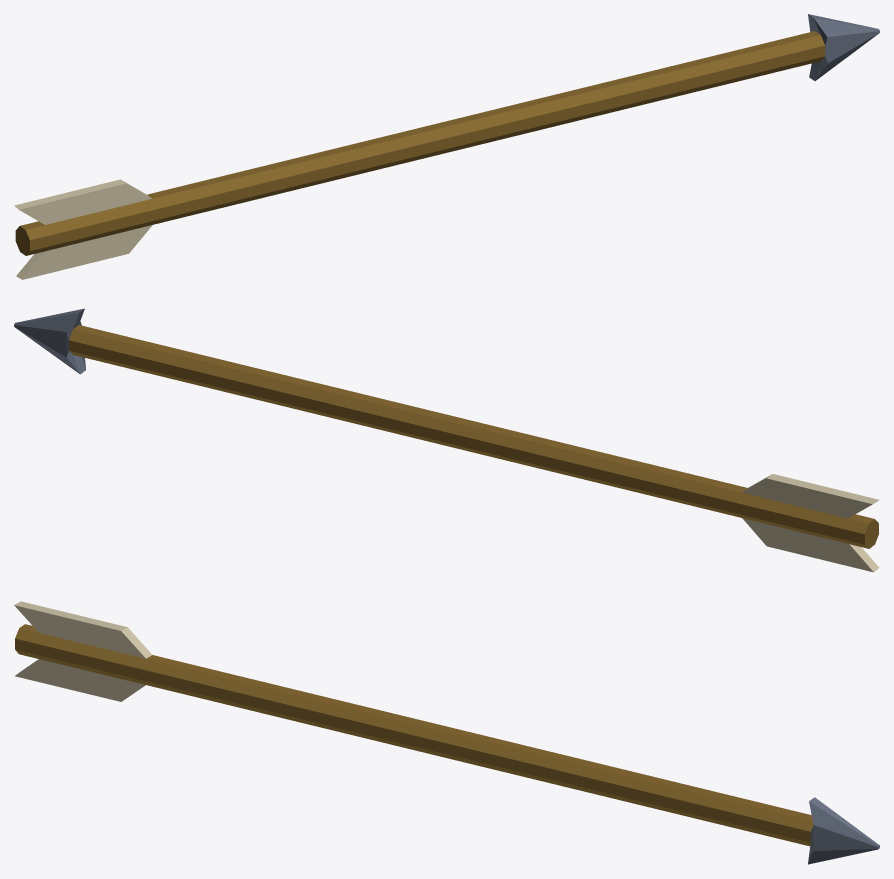
Rendered from Strela.fbx.
3 views of the same model, one above another, from view 1: azimuth 30°, elevation 25°; view 2: azimuth 150°, elevation 25°; view 3: azimuth 330°, elevation 25° (orthographic).
Parts seen in each view (by area): view 1: стрела_отдельно; view 2: стрела_отдельно; view 3: стрела_отдельно.
Part boxes in pixels (x1,y1,x2,y2): стрела_отдельно: (14, 14, 879, 279); стрела_отдельно: (14, 308, 879, 572); стрела_отдельно: (14, 601, 879, 864).
Bounding box in the file's own units: 247 × 19.14 × 7.5.
